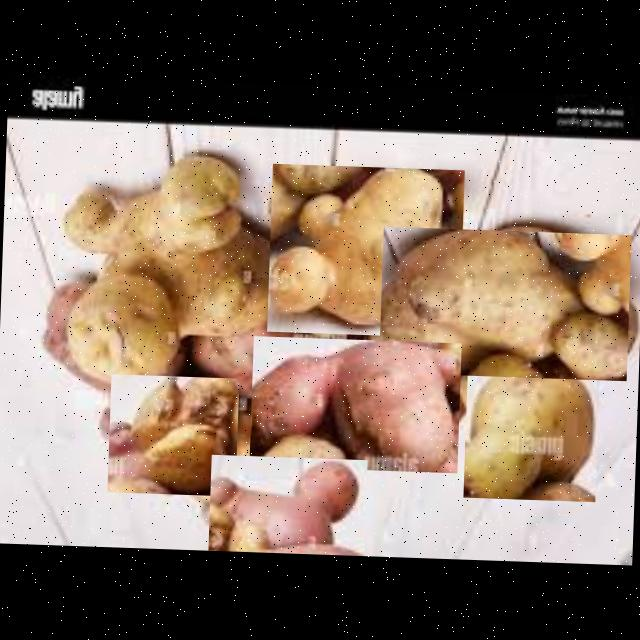Damaged potato: (43, 158, 296, 383), (378, 226, 631, 381), (266, 163, 464, 338), (249, 336, 461, 473), (208, 454, 367, 556), (107, 374, 239, 496)
Potato: (463, 357, 600, 502)
